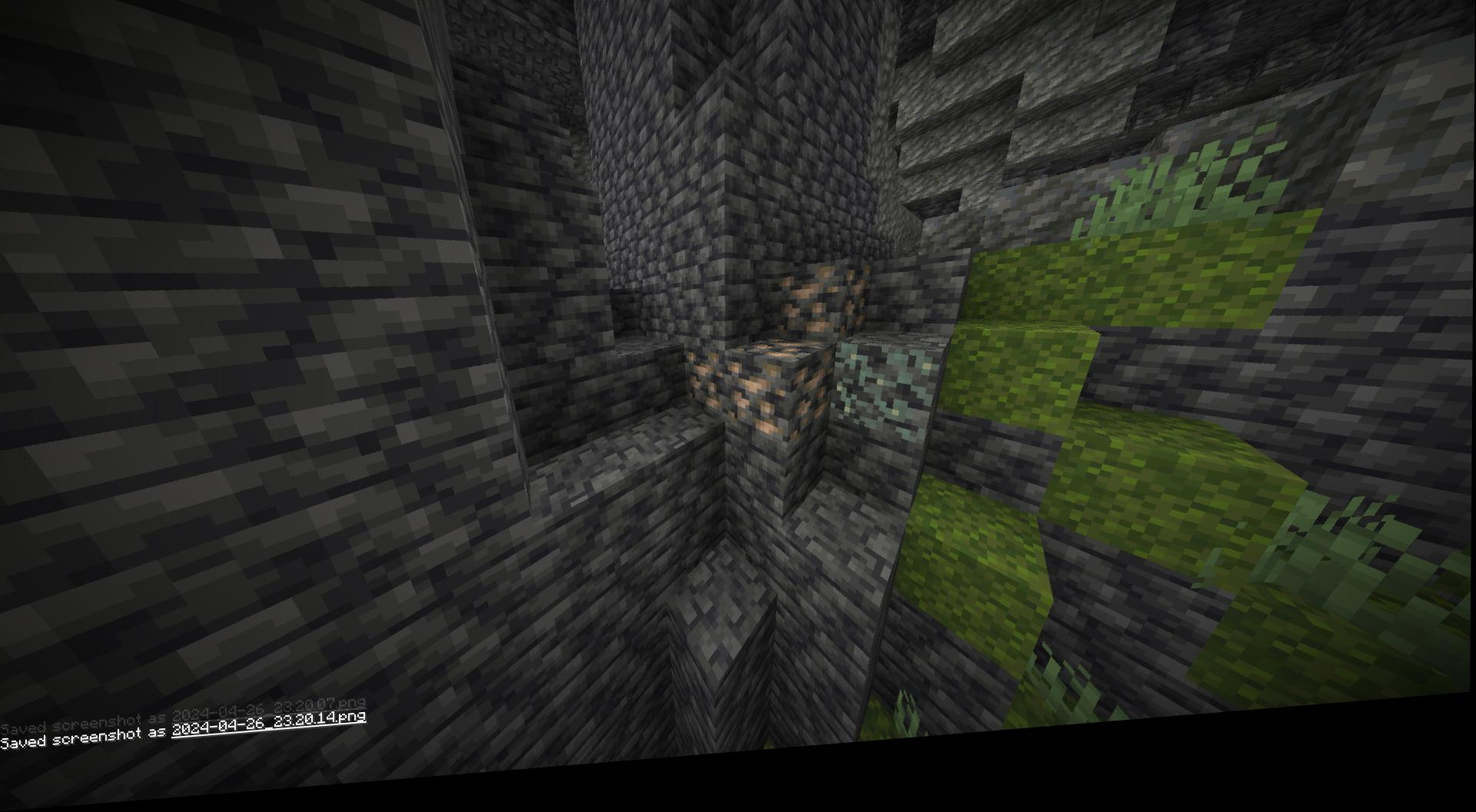iron ore: (775, 280, 840, 351), (723, 369, 782, 443), (789, 366, 835, 453), (733, 347, 827, 380), (679, 362, 722, 427), (840, 276, 874, 350)
